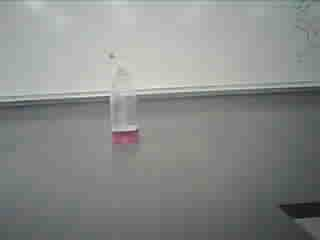hazard: (106, 47, 145, 149)
